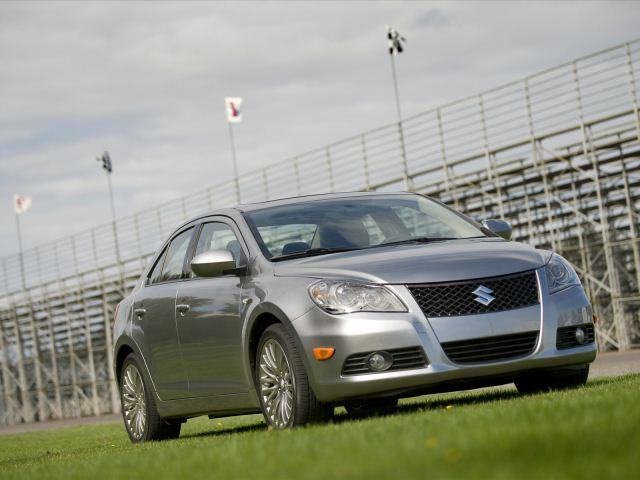suzuki: (464, 278, 500, 312)
